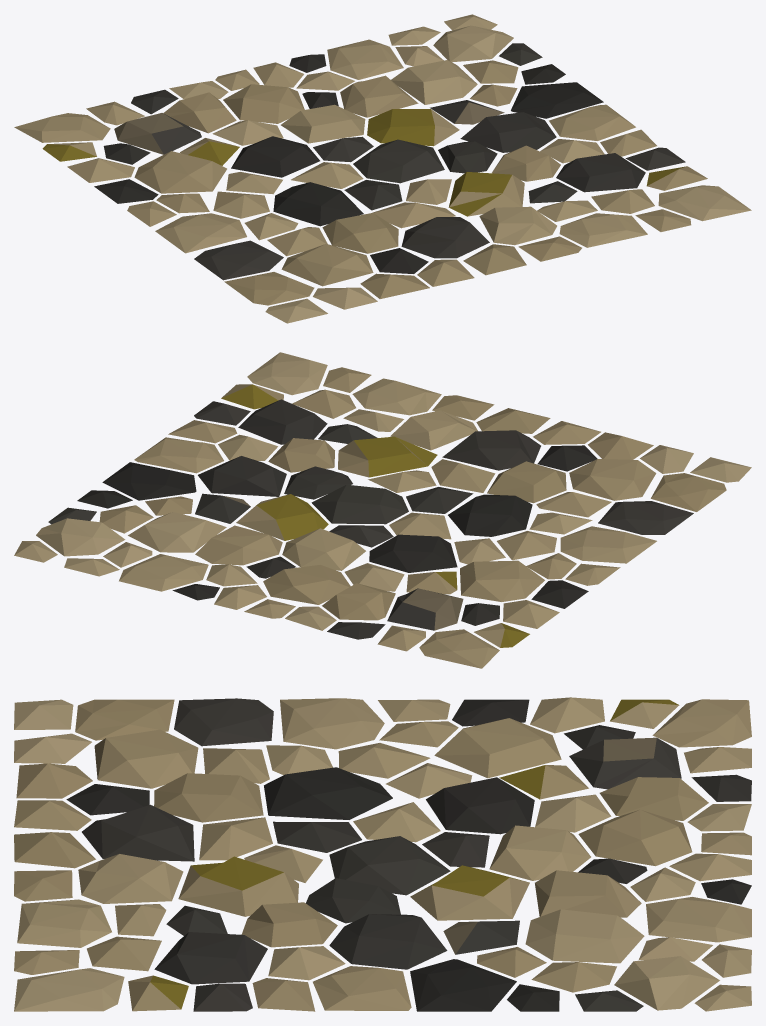
The model's file is poro-paving-tile-2b46ac.glb.
The picture shows the model from 3 angles, top to bottom: view 1: azimuth 30°, elevation 25°; view 2: azimuth 150°, elevation 25°; view 3: azimuth 270°, elevation 25°; orthographic projection. The views are drawn at different scales.
Parts seen in each view (by area): view 1: poro-paving; view 2: poro-paving; view 3: poro-paving.
Boxes of the visible parts, <box> form: poro-paving: <box>14,14,751,323</box>; poro-paving: <box>14,352,751,668</box>; poro-paving: <box>14,697,751,1011</box>.
Bounding box in the file's own units: 4 × 0.1042 × 4.
